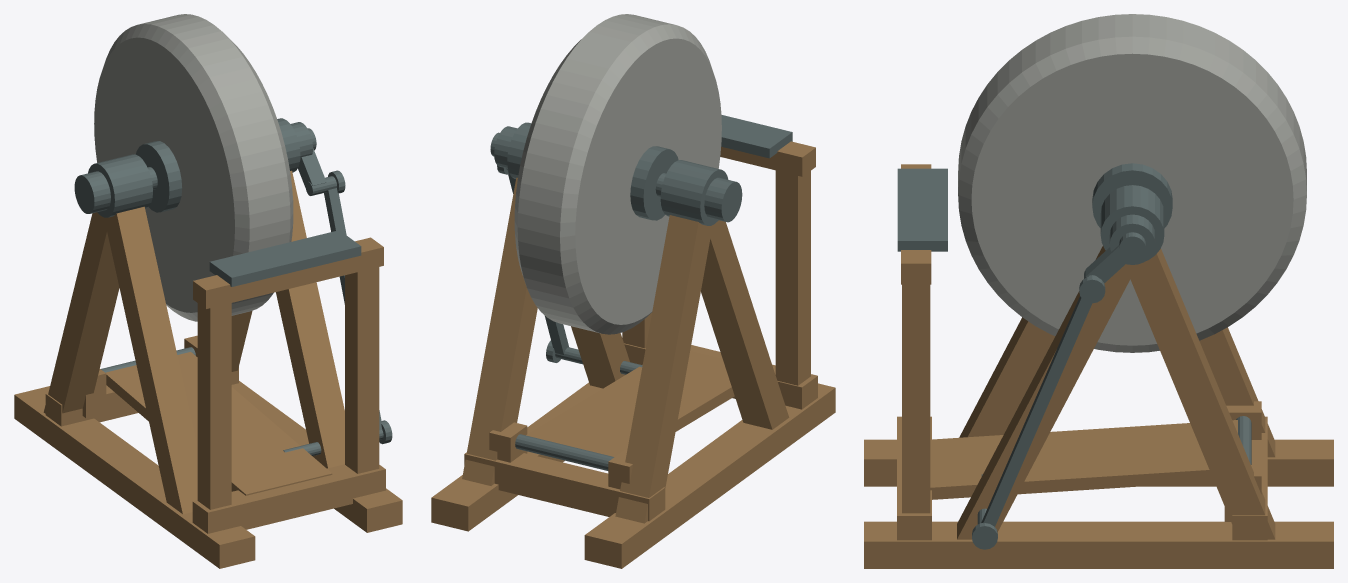
3 renders of one model, left to right at view 1: azimuth 30°, elevation 25°; view 2: azimuth 150°, elevation 25°; view 3: azimuth 270°, elevation 25°, orthographic. The views are drawn at different scales.
Parts seen in each view (by area): view 1: WholeThickBoredStoneWheel, LeftFrontWholeSplayedBearingLeg, LeftWholeGroundRunner, WholeLongSlopedFootTreadle, RightFrontWholeSplayedBearingLeg, LeftRearWholeSplayedBearingLeg, LeftWholeToolRestUpright, RightWholeToolRestUpright, FrontWholeLowFrameStretcher, WholeForwardToolRestPlate, WholeToolRestCrossmember, RightWholeGroundRunner (+9 smaller); view 2: WholeThickBoredStoneWheel, LeftRearWholeSplayedBearingLeg, LeftWholeGroundRunner, RightRearWholeSplayedBearingLeg, LeftFrontWholeSplayedBearingLeg, WholeLongSlopedFootTreadle, LeftWholeToolRestUpright, RearWholeLowFrameStretcher, RightWholeGroundRunner, LeftWholeBoredAxleBearing, RightFrontWholeSplayedBearingLeg, LeftWholeStoneRetainingFlange (+11 smaller); view 3: WholeThickBoredStoneWheel, RightWholeGroundRunner, WholeLongSlopedFootTreadle, RightRearWholeSplayedBearingLeg, RightFrontWholeSplayedBearingLeg, RightWholeToolRestUpright, LeftWholeGroundRunner, LeftFrontWholeSplayedBearingLeg, WholeForwardToolRestPlate, WholeLongTreadleConnectingRod, LeftRearWholeSplayedBearingLeg, RightWholeBoredAxleBearing (+10 smaller).
Boxes of the visible parts, box(x1,y1,x2,y2) form: WholeThickBoredStoneWheel: box(94, 14, 293, 321); LeftFrontWholeSplayedBearingLeg: box(104, 206, 197, 514); LeftWholeGroundRunner: box(14, 386, 255, 568); WholeLongSlopedFootTreadle: box(106, 352, 332, 495); RightFrontWholeSplayedBearingLeg: box(276, 170, 344, 468); LeftRearWholeSplayedBearingLeg: box(43, 212, 119, 413); LeftWholeToolRestUpright: box(197, 303, 231, 509); RightWholeToolRestUpright: box(345, 267, 379, 473); FrontWholeLowFrameStretcher: box(192, 464, 385, 533); WholeForwardToolRestPlate: box(209, 230, 361, 286); WholeToolRestCrossmember: box(193, 237, 383, 308); RightWholeGroundRunner: box(231, 381, 402, 532); WholeThickBoredStoneWheel: box(514, 14, 721, 334); LeftRearWholeSplayedBearingLeg: box(615, 215, 712, 523); LeftWholeGroundRunner: box(584, 383, 835, 568); RightRearWholeSplayedBearingLeg: box(462, 177, 537, 485); LeftFrontWholeSplayedBearingLeg: box(701, 220, 789, 429); WholeLongSlopedFootTreadle: box(526, 351, 734, 456); LeftWholeToolRestUpright: box(775, 170, 810, 385); RearWholeLowFrameStretcher: box(464, 452, 665, 521); RightWholeGroundRunner: box(431, 382, 602, 531); LeftWholeBoredAxleBearing: box(660, 160, 728, 225); RightFrontWholeSplayedBearingLeg: box(571, 326, 629, 388); LeftWholeStoneRetainingFlange: box(630, 146, 678, 220); WholeThickBoredStoneWheel: box(958, 14, 1306, 352); RightWholeGroundRunner: box(864, 521, 1333, 568); WholeLongSlopedFootTreadle: box(930, 420, 1237, 499); RightRearWholeSplayedBearingLeg: box(1126, 248, 1275, 539); RightFrontWholeSplayedBearingLeg: box(957, 246, 1137, 539); RightWholeToolRestUpright: box(902, 284, 930, 513); LeftWholeGroundRunner: box(864, 439, 1333, 486); LeftFrontWholeSplayedBearingLeg: box(959, 317, 1054, 437); WholeForwardToolRestPlate: box(897, 168, 947, 251); WholeLongTreadleConnectingRod: box(981, 296, 1092, 526); LeftRearWholeSplayedBearingLeg: box(1199, 327, 1275, 457); RightWholeBoredAxleBearing: box(1100, 185, 1164, 260).
Bounding box in the file's own units: 0.935 × 1.62 × 1.4.
